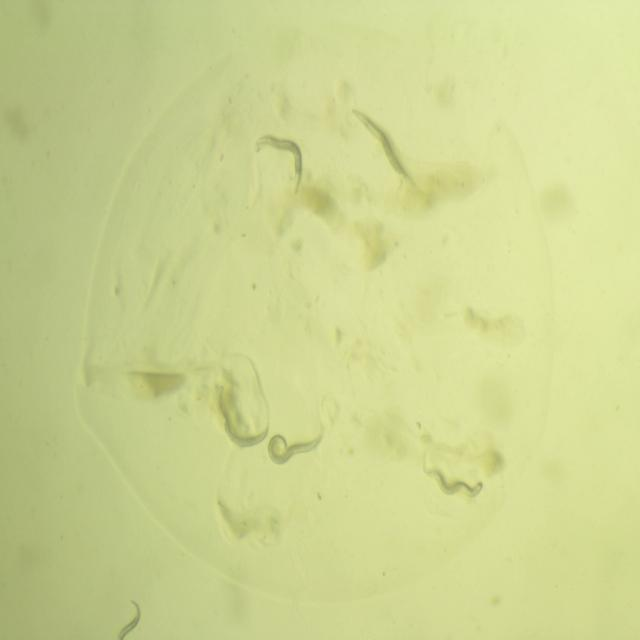worm: (347, 101, 420, 195), (242, 125, 308, 197), (210, 380, 271, 453), (262, 414, 335, 470), (419, 454, 487, 507), (109, 593, 147, 640)
